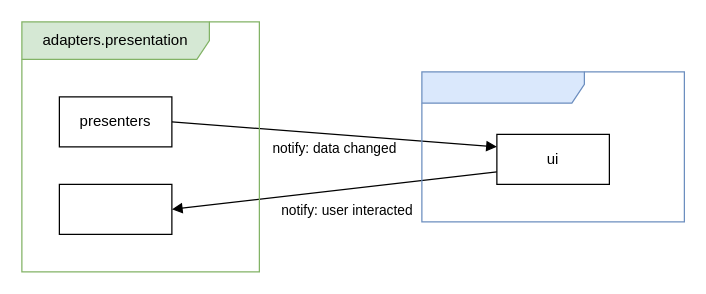
This 706x294 diagram has some shape labels left out. The shapes that lost their labels are listed below. From the top down, each one's box as (x1, y1, x2, y2) in pixels, then its label:
(421, 71, 684, 222): infrastructure.flutter
(58, 183, 172, 234): controllers
